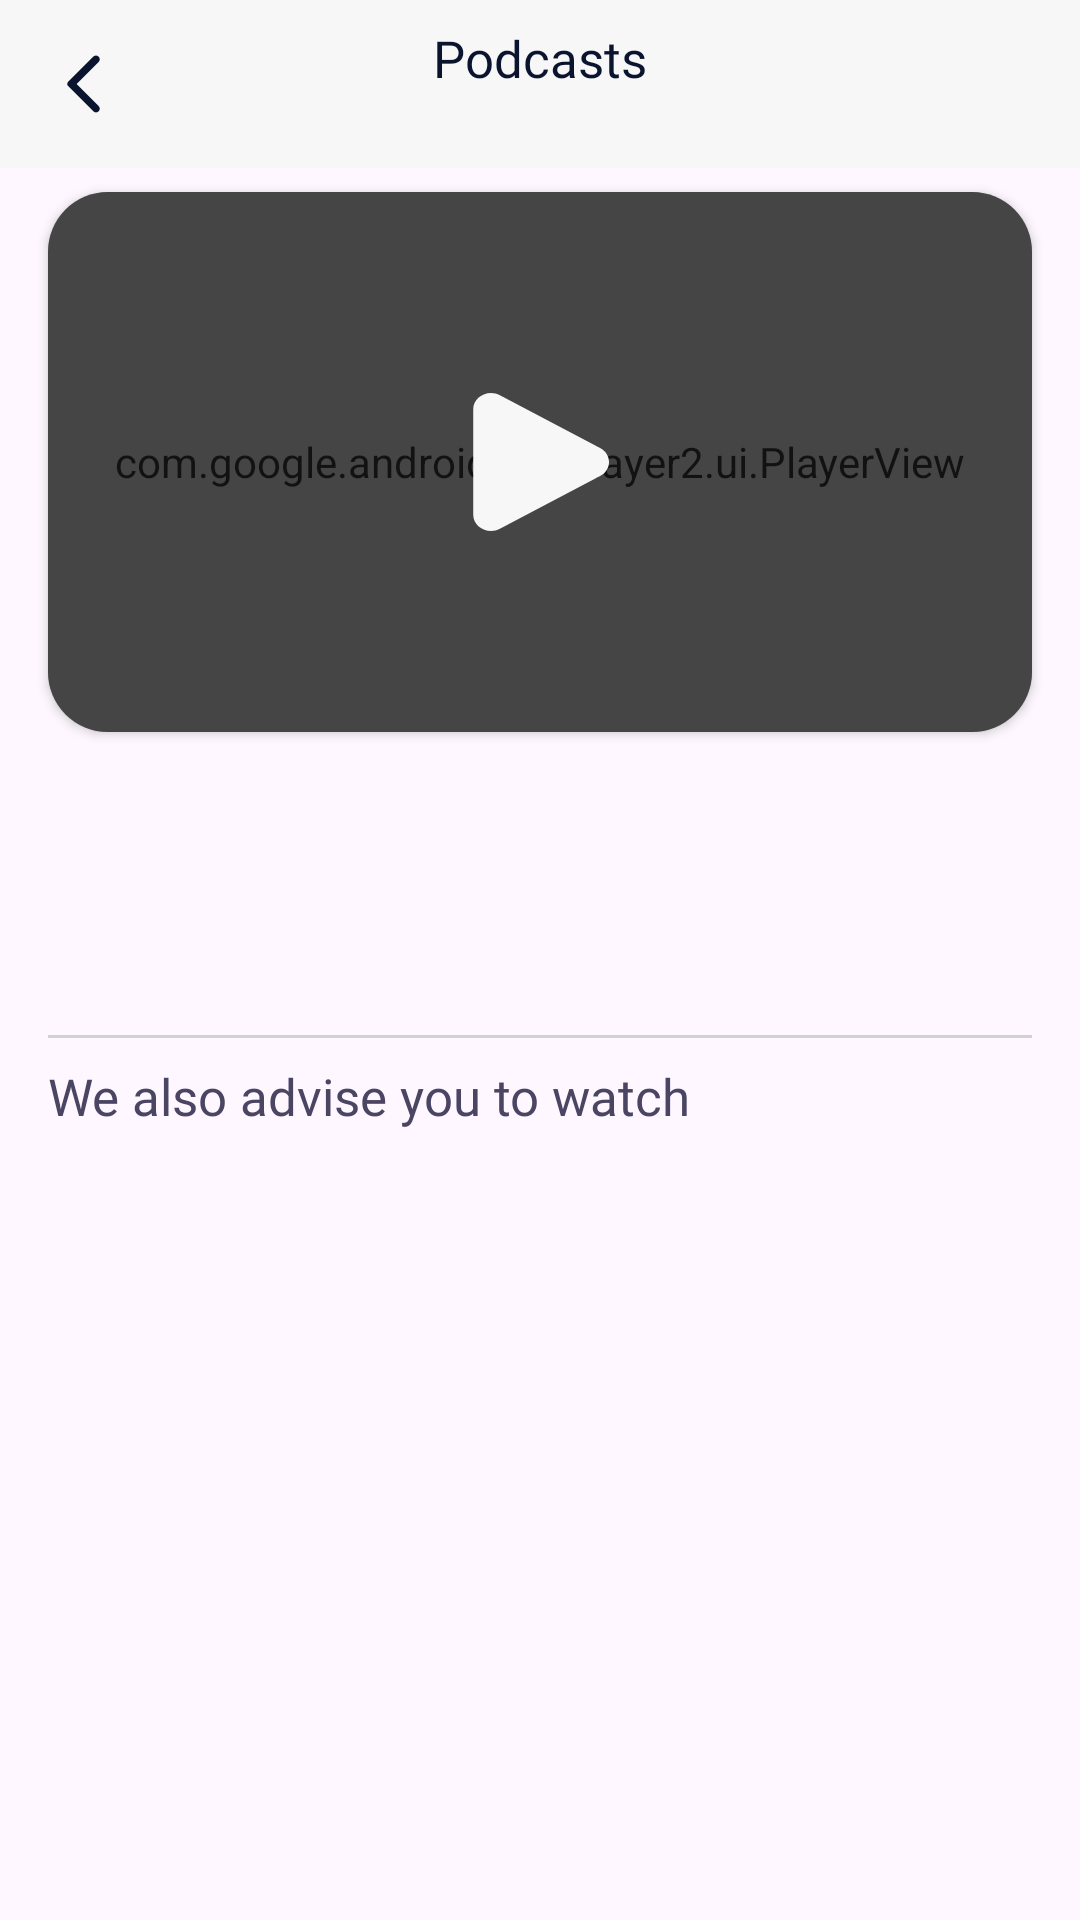

Where icons sit on this 1080w x 1920h app screen, as [x1,y1,x2,y2]:
back: [67,55,100,113]
